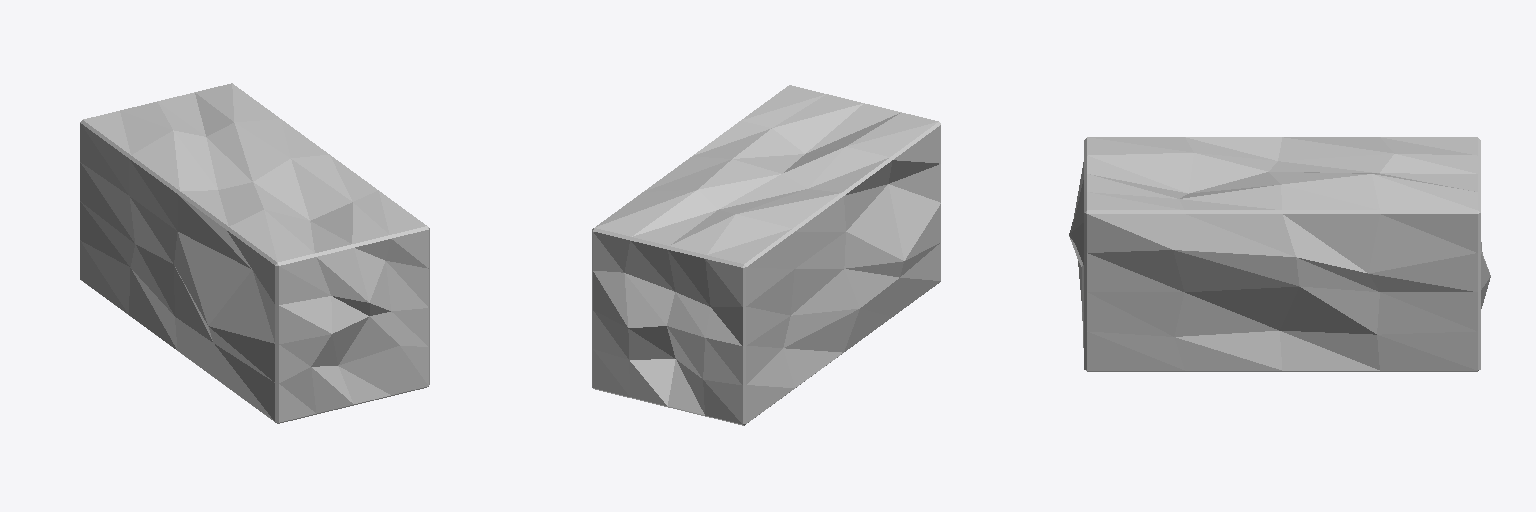
The model's file is Brick_1x2_Normal.obj.
3 renders of one model, left to right at view 1: azimuth 30°, elevation 25°; view 2: azimuth 150°, elevation 25°; view 3: azimuth 270°, elevation 25°, orthographic.
Visible parts, largest first — view 1: Cube_Cube.001; view 2: Cube_Cube.001; view 3: Cube_Cube.001.
Part boxes in pixels (bbox=[...]): Cube_Cube.001: bbox=[80, 83, 429, 423]; Cube_Cube.001: bbox=[592, 85, 940, 425]; Cube_Cube.001: bbox=[1069, 137, 1490, 371].
Bounding box in the file's own units: 0.7083 × 0.6909 × 1.41.